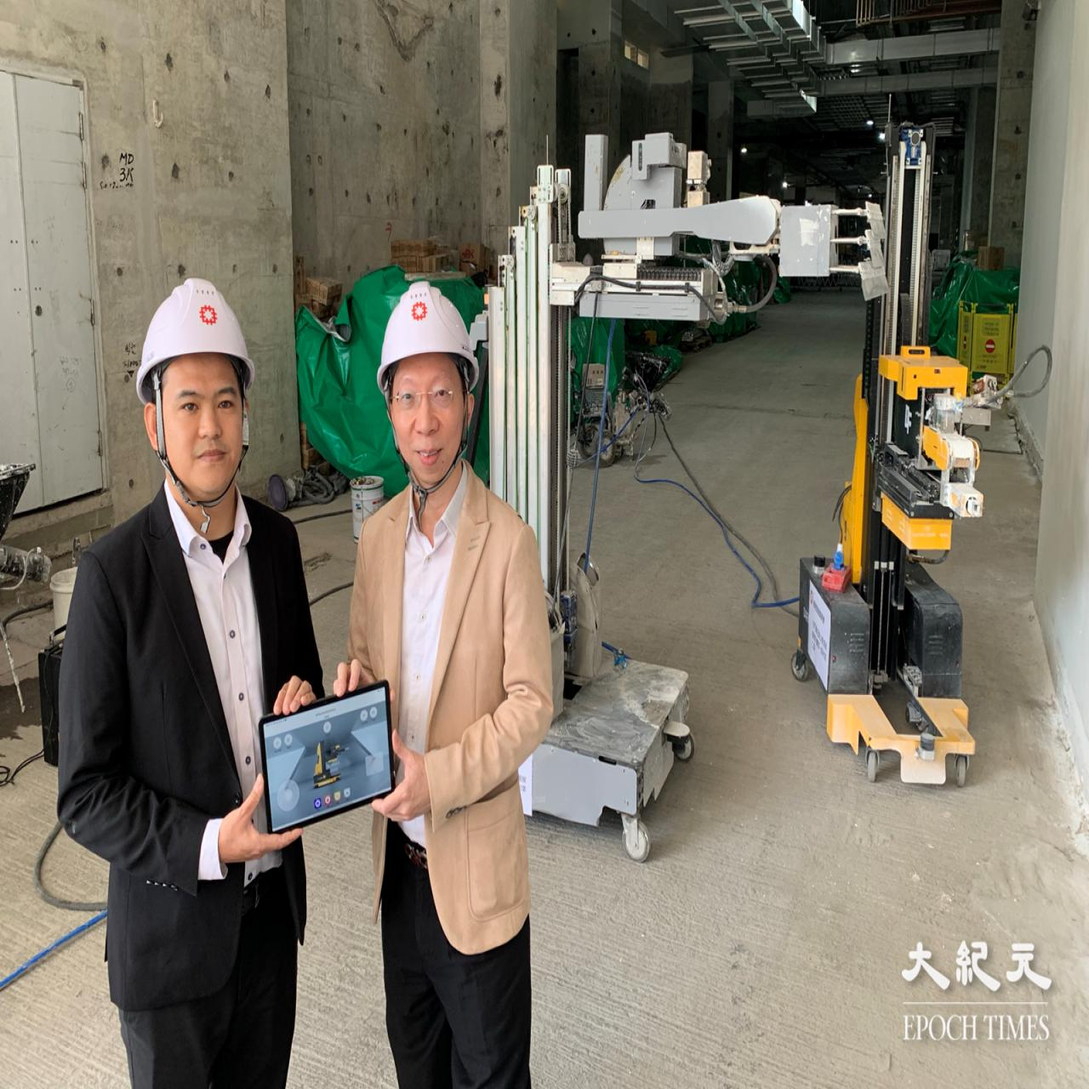NO_Safety_Vest: (98, 515, 307, 985), (368, 506, 507, 874)
Person: (50, 252, 345, 1089), (329, 261, 557, 1074)
